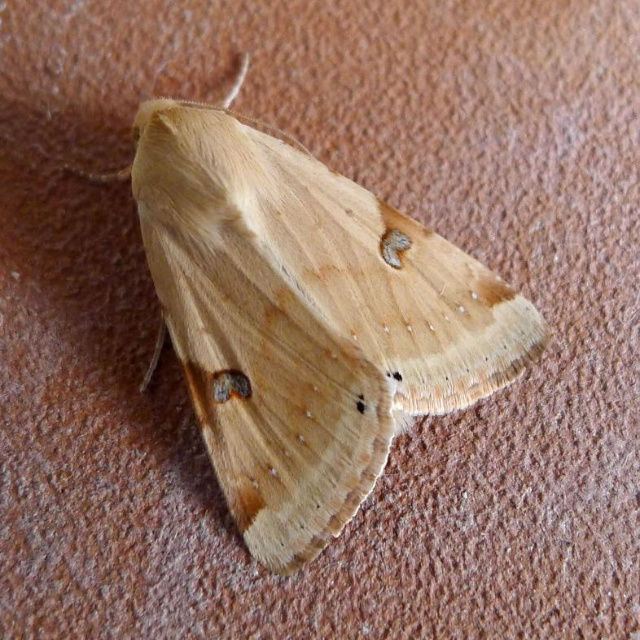Butterfly: (140, 76, 535, 612)
